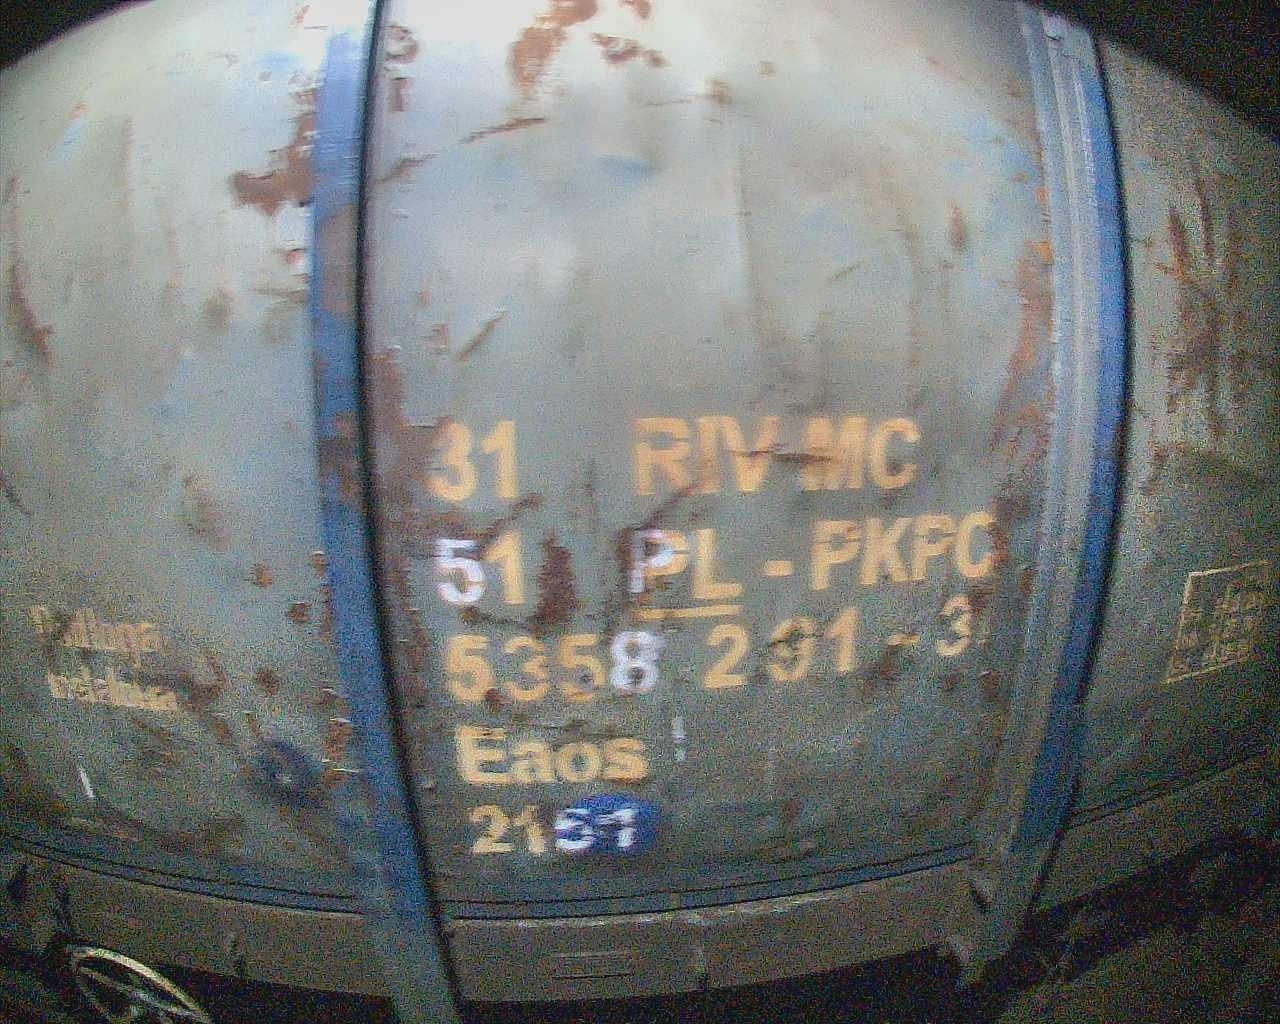UIC: (413, 410, 1011, 865)
